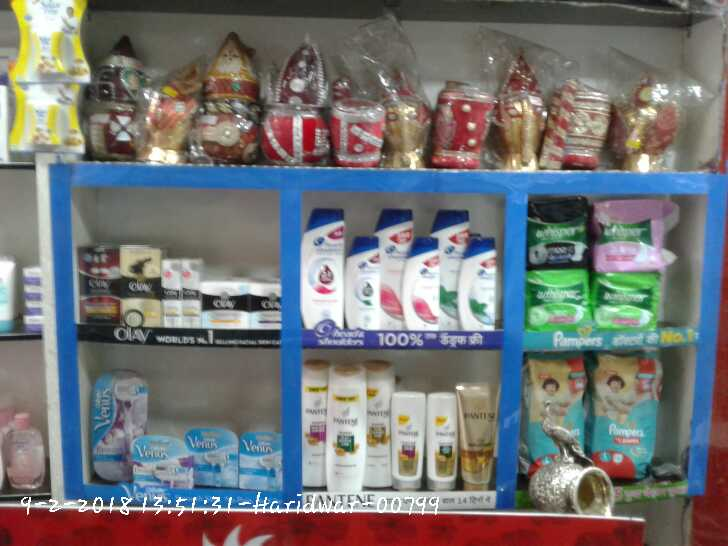venus: (94, 368, 127, 478), (131, 431, 192, 490), (193, 431, 239, 488), (239, 429, 283, 488)
